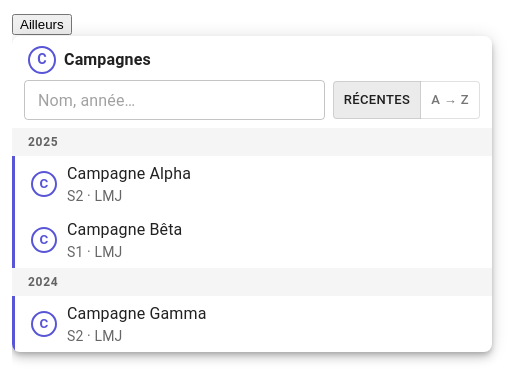
Test: EntityRefPicker — étape 1 (campagnes) › ↓ depuis le champ « Filtrer les campagnes » rejoint la première campagne ; Entrée l’ouvre (rien sans résultat)
Click the field named "Filtrer les campagnes": (174, 100) 24,80 -> 325,120
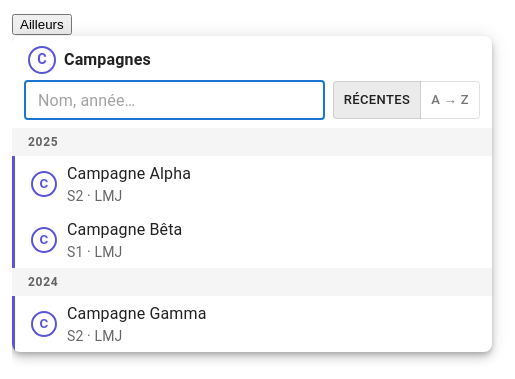
Press Arrowdown
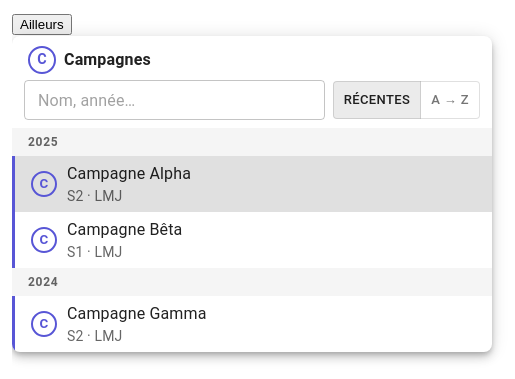
In the field named "Filtrer les campagnes": (174, 100) 24,80 -> 325,120, type "zzz"
Then press Enter
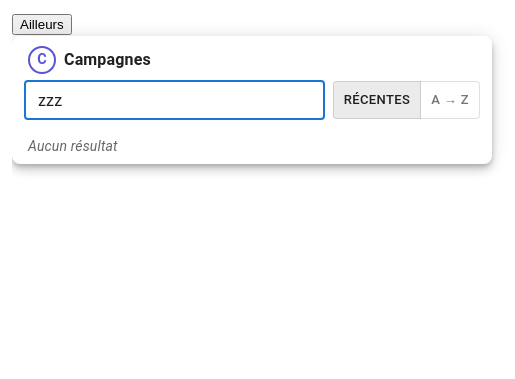
Check: the menu is gone
Replace the text in the field named "Filtrer les campagnes" with "gamma": (174, 100) 24,80 -> 325,120
Then press Enter
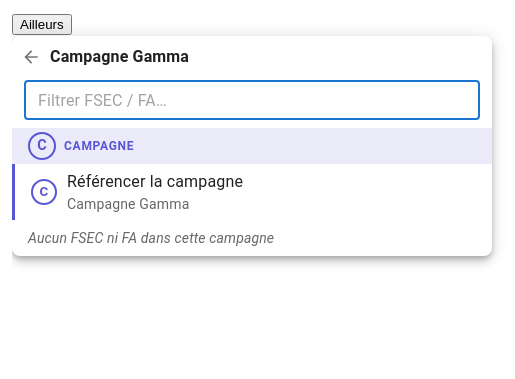
Check: the heading "Campagne Gamma" is shown, box 50,43 -> 189,71
